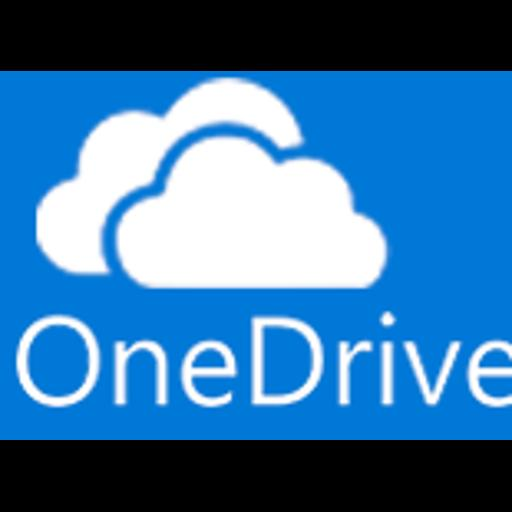Outlook: (0, 71, 512, 440)
